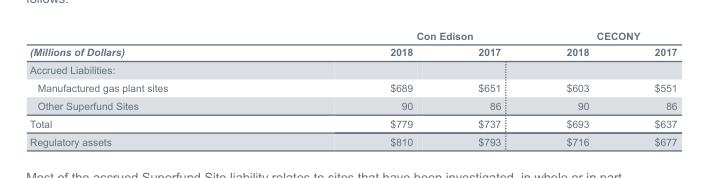table: (29, 29, 676, 146)
table column: (29, 29, 278, 146), (278, 29, 444, 146), (444, 29, 533, 146), (533, 29, 621, 146), (621, 29, 676, 146)
table column header: (29, 29, 676, 60)
table projected row header: (29, 60, 676, 78)
table row: (29, 60, 676, 78), (29, 78, 676, 96), (29, 96, 676, 114), (29, 114, 676, 132), (29, 43, 676, 60), (29, 29, 676, 43), (29, 132, 676, 146)
table spanning cell: (29, 29, 278, 60), (278, 29, 533, 43), (533, 29, 676, 43)
